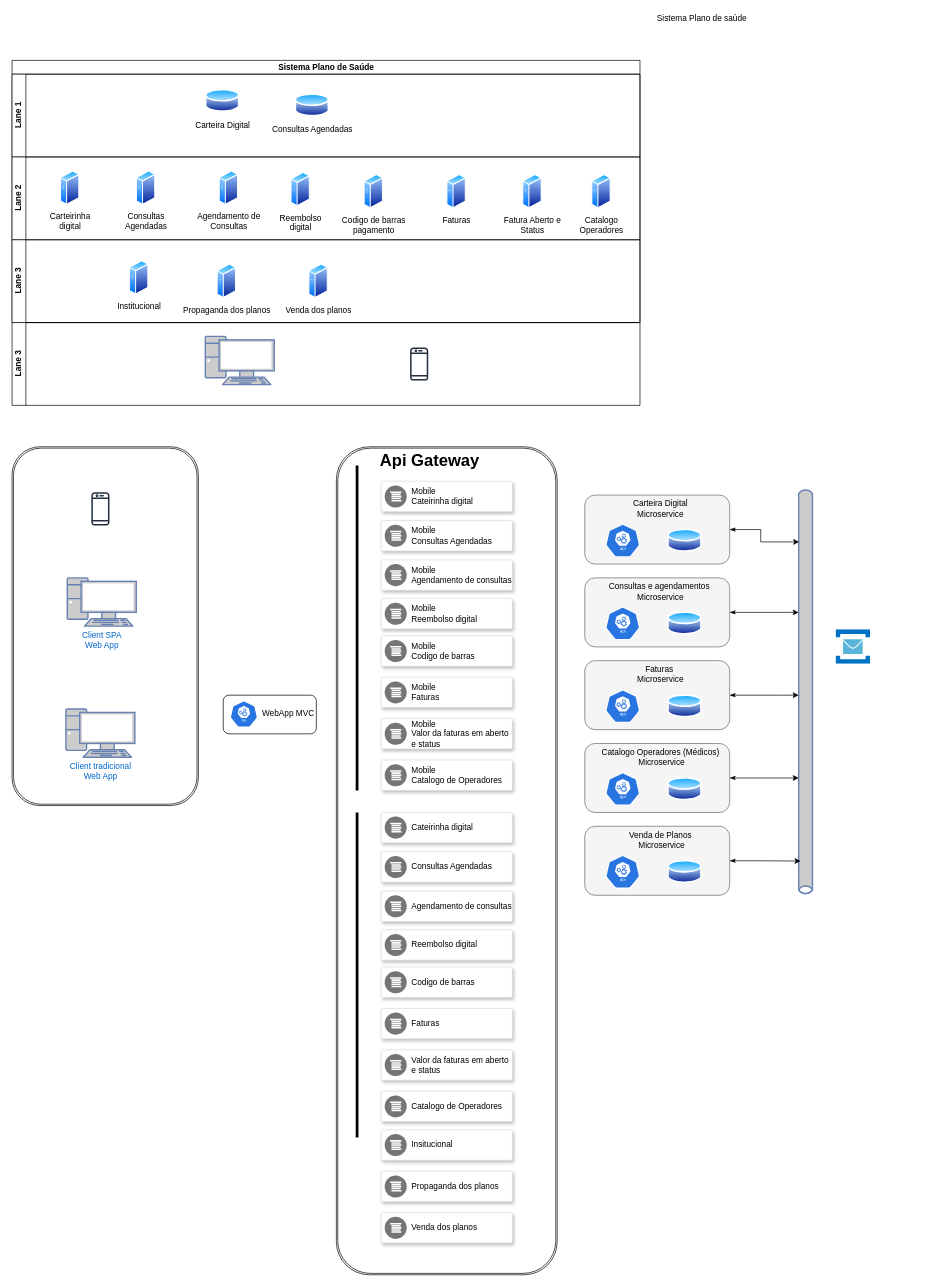
This 949x1287 diagram has some shape labels left out. The centre of each missing label's shape, as x and y in pixels:
"Azure Event Bus" goes at [853,646].
"Client Mobile App" goes at [100,508].
